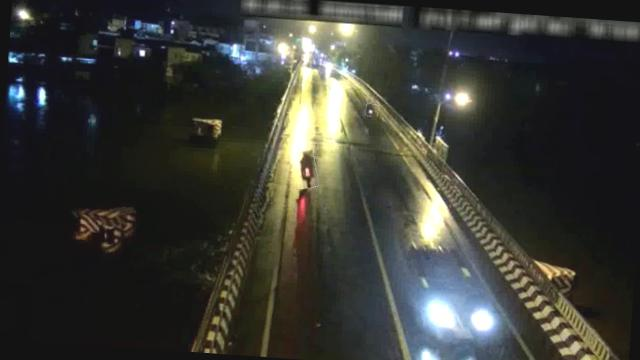Bike: (292, 148, 319, 190), (364, 102, 378, 116)
